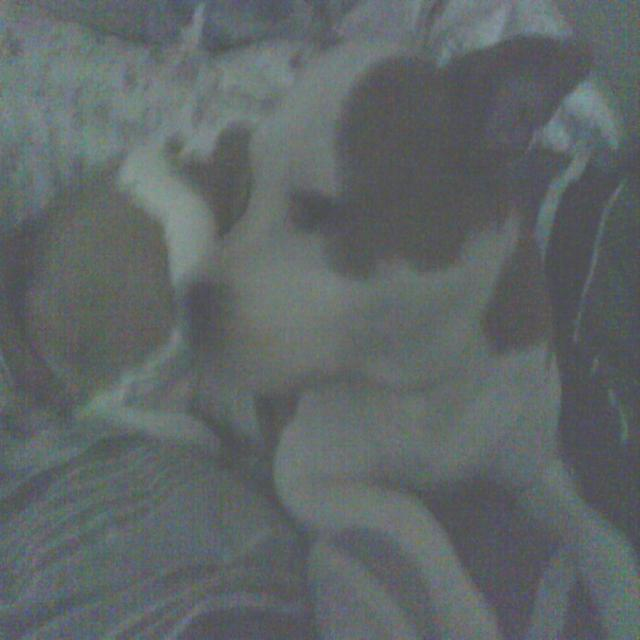Dog: (103, 11, 640, 612)
